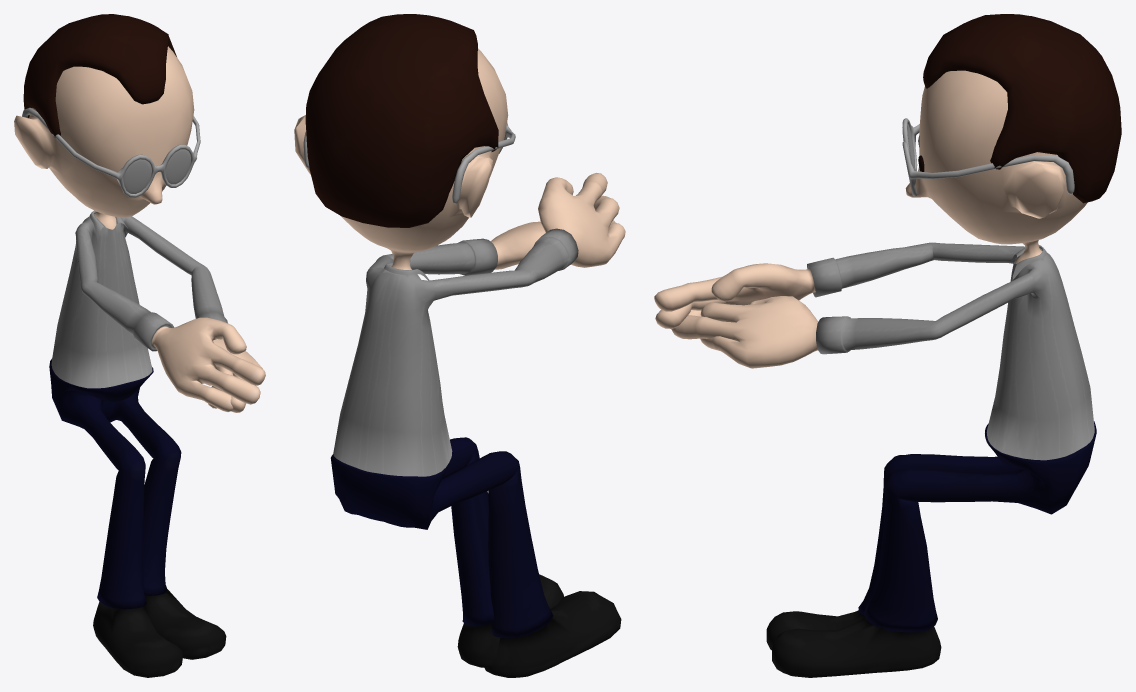
Rendered from Animation_Cartoon_ForChair.obj.
3 views of the same model, side by side, from view 1: azimuth 30°, elevation 25°; view 2: azimuth 150°, elevation 25°; view 3: azimuth 270°, elevation 25° (orthographic). The views are drawn at different scales.
Visible parts, largest first — view 1: bm_09; view 2: bm_09; view 3: bm_09.
Part boxes in pixels (x1,y1,x2,y2): bm_09: (14, 14, 265, 677); bm_09: (294, 14, 625, 677); bm_09: (654, 14, 1121, 677).
Bounding box in the file's own units: 0.4055 × 1.35 × 0.8747.
Materials: 3 (1 with a texture image).
